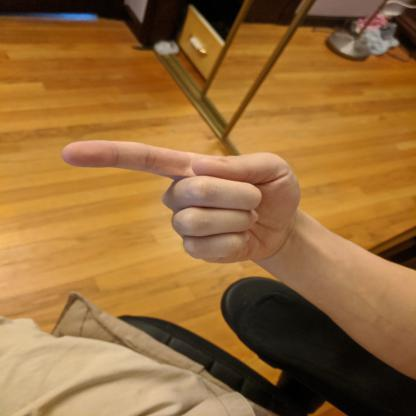G: (53, 136, 303, 266)
